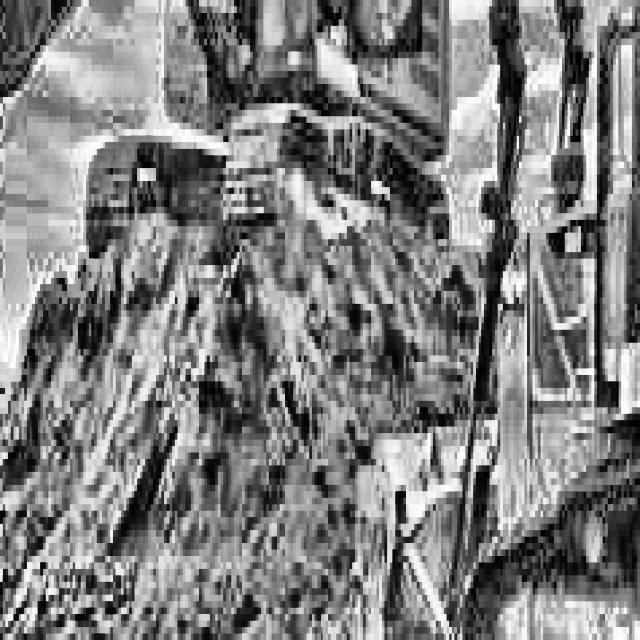buldozerpayloadergrader: (365, 0, 640, 640)
excavator: (0, 0, 454, 640)
